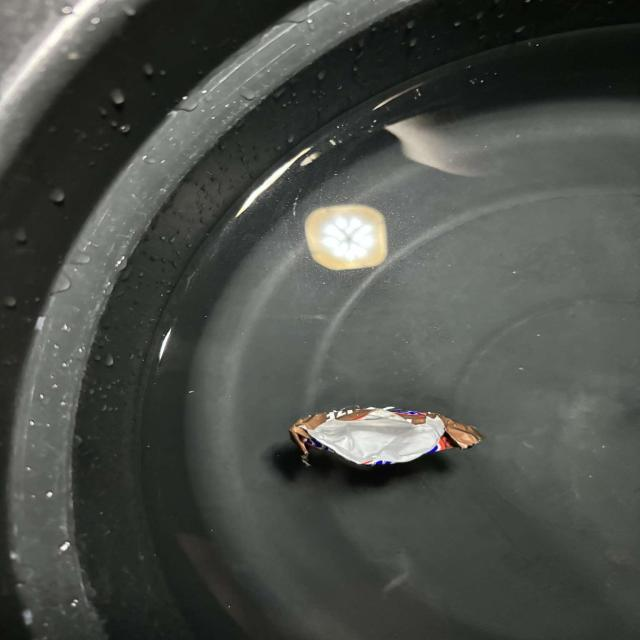Plastic Wrapper: (262, 386, 514, 490)
